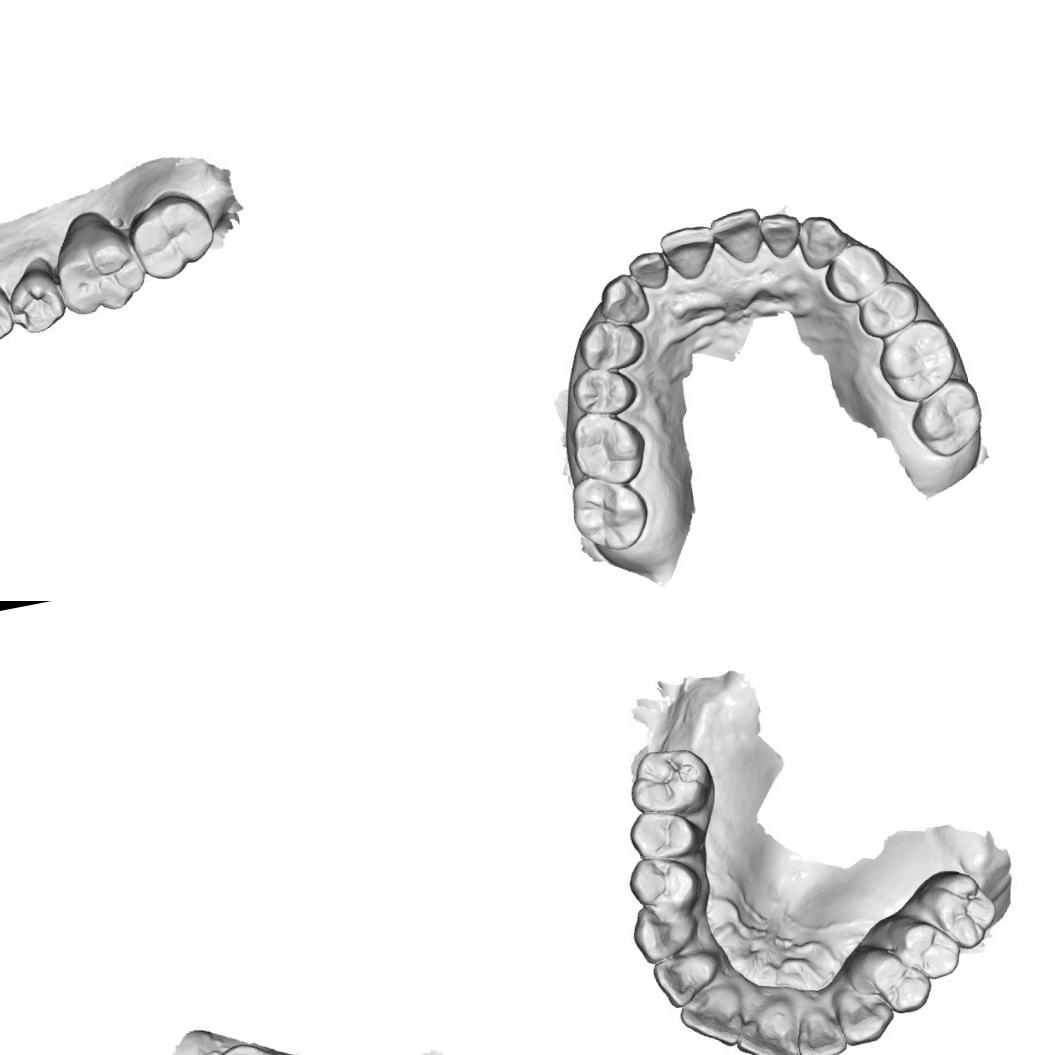canine: (622, 897, 705, 968), (829, 977, 900, 1048), (592, 268, 653, 331), (793, 209, 853, 272)
incisor: (646, 946, 724, 1014), (675, 984, 744, 1055), (656, 221, 722, 285), (708, 204, 768, 268), (728, 1004, 802, 1055), (787, 1003, 852, 1055), (756, 208, 805, 261), (624, 245, 672, 294)
molar: (47, 212, 149, 322), (120, 186, 222, 286), (914, 863, 1006, 960), (564, 466, 655, 558), (872, 315, 962, 408), (619, 740, 717, 821), (566, 402, 654, 492), (902, 373, 990, 462), (198, 1033, 299, 1055)
premolar: (893, 911, 968, 989), (861, 943, 934, 1019), (622, 846, 704, 913), (818, 237, 894, 308), (623, 800, 704, 866), (1, 262, 70, 339), (572, 313, 649, 376), (850, 276, 924, 341), (567, 360, 641, 422), (0, 277, 16, 350)
